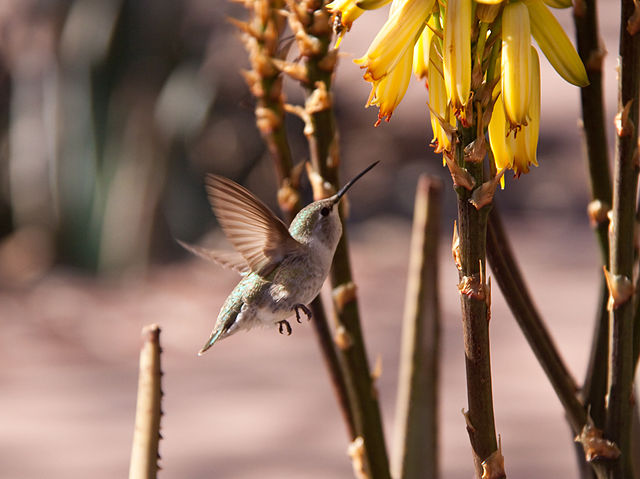calypte costae: (181, 161, 382, 352)
